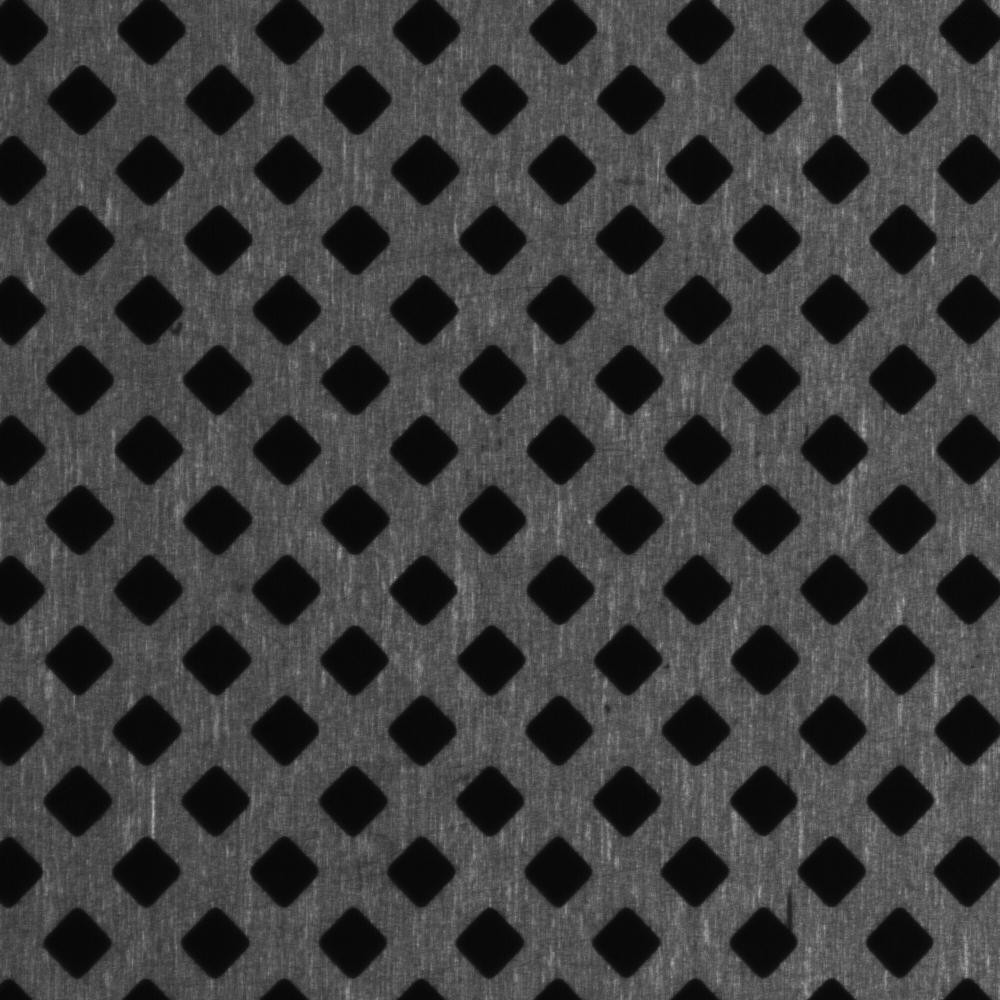Scar: (215, 598, 292, 654), (769, 868, 812, 933), (369, 240, 465, 269), (449, 275, 541, 304)
